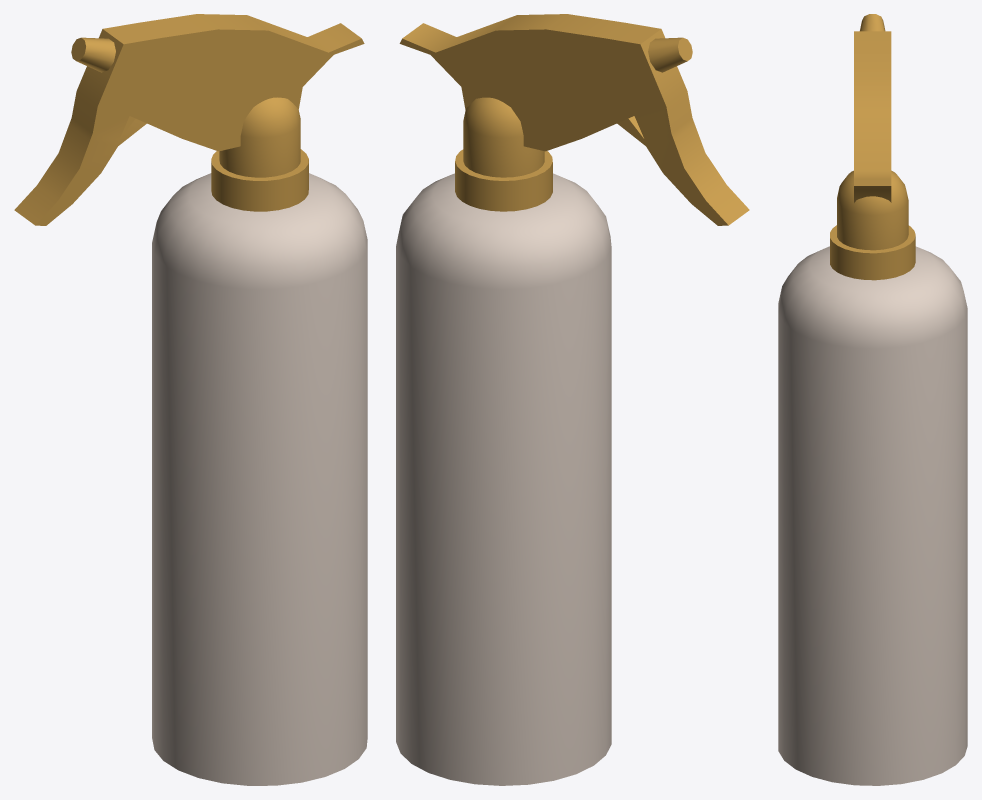
File: SprayBottle.fbx
3 renders of one model, left to right at view 1: azimuth 30°, elevation 25°; view 2: azimuth 150°, elevation 25°; view 3: azimuth 270°, elevation 25°, orthographic. The views are drawn at different scales.
Parts seen in each view (by area): view 1: SprayBottle; view 2: SprayBottle; view 3: SprayBottle.
Boxes of the visible parts, left/top/right/bottom form: SprayBottle: left=14, top=14, right=367, bottom=785; SprayBottle: left=396, top=14, right=749, bottom=785; SprayBottle: left=778, top=14, right=967, bottom=785.
Size of the model in its own units: 0.4546 by 0.9827 by 0.2574.
